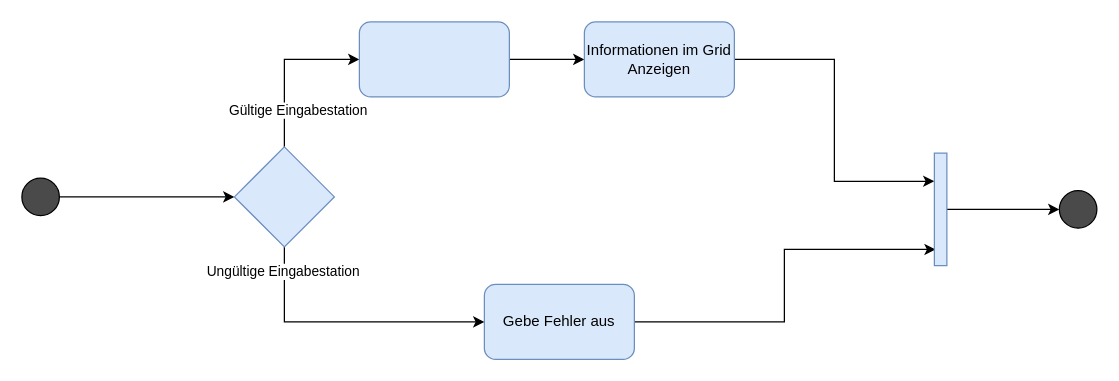
Image size: 1119x381. Some labels were removed from this diagram. The shapes that lost their labels are listed below. From the top down, each one's centre as x and y in pixels, then its label:
At (x=433, y=59): "API-Request".
At (x=283, y=196): "validiere Eingabestation".
